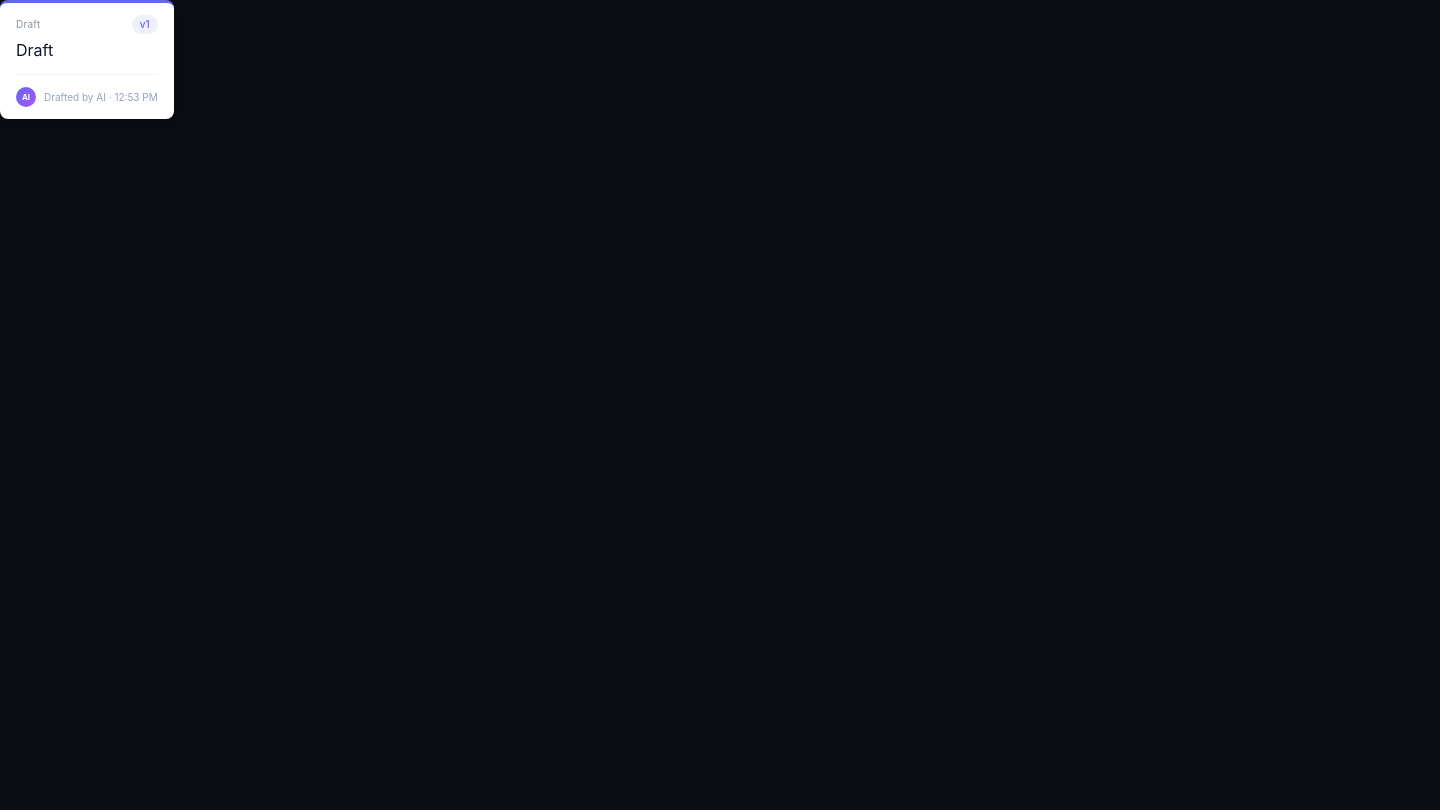
Test: Draft Card › submits approval when checkbox checked and Approve clicked
This screenshot has width=1440, height=810.
Later steps or results of the test are not shown.
Hover over the element with test id "draft-card-content" at [87, 72], box 16,38 -> 158,107
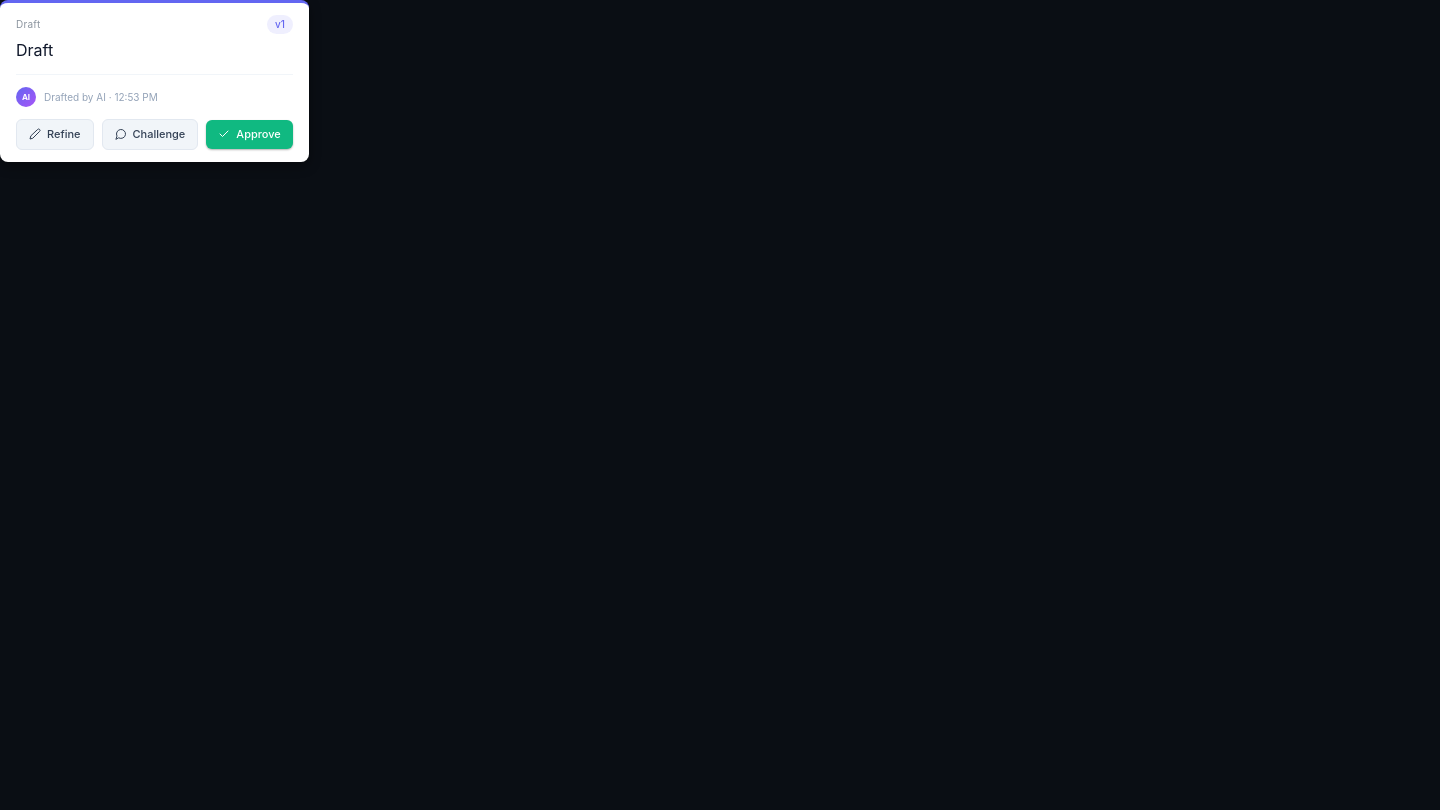
Click the button "Approve" at [250, 134], box 206,120 -> 293,148
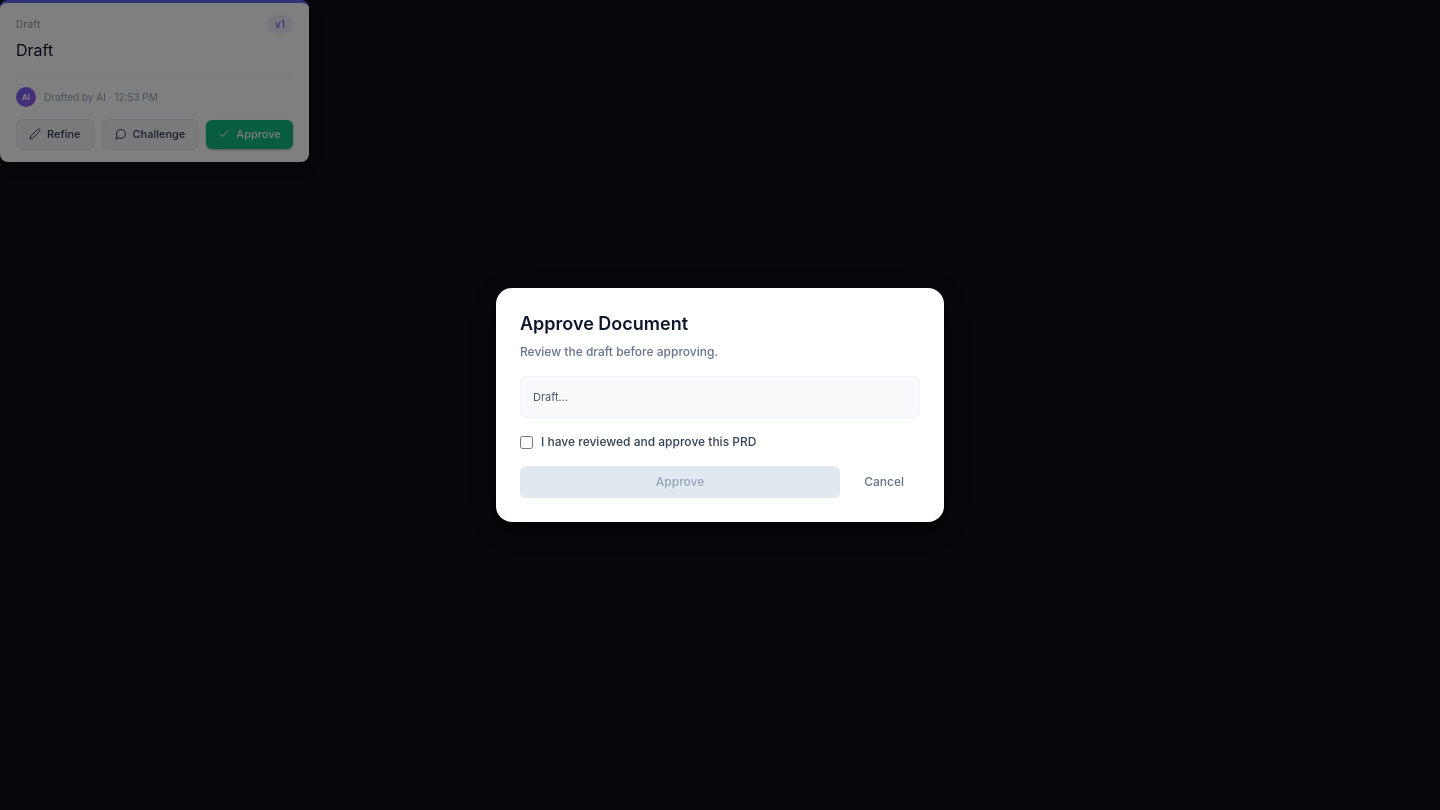
Note: Check the checkbox
Click the checkbox labelled "I have reviewed and approve this PRD" at [526, 442], box 520,436 -> 533,449
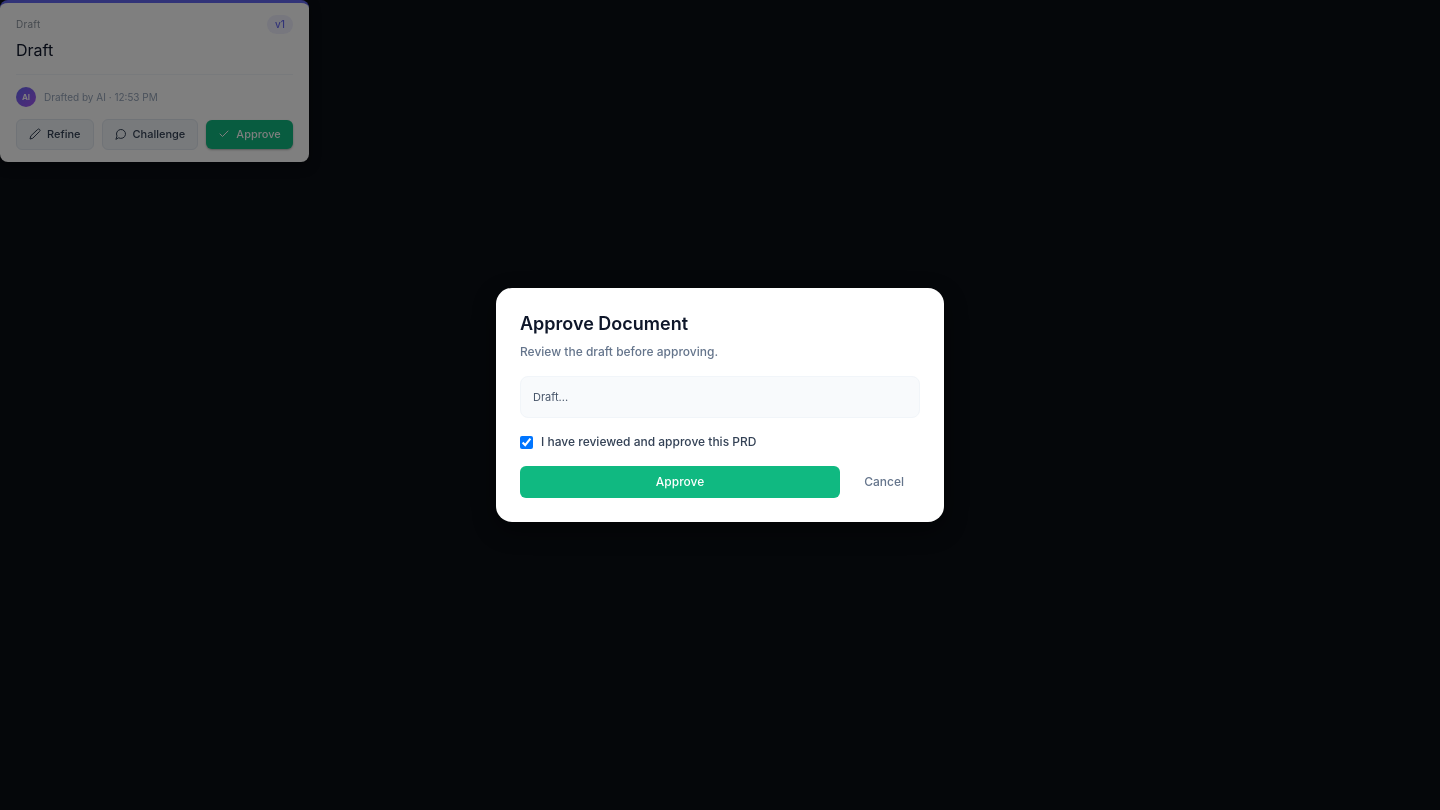
Check: the button "Approve" is shown, box 520,466 -> 840,498
